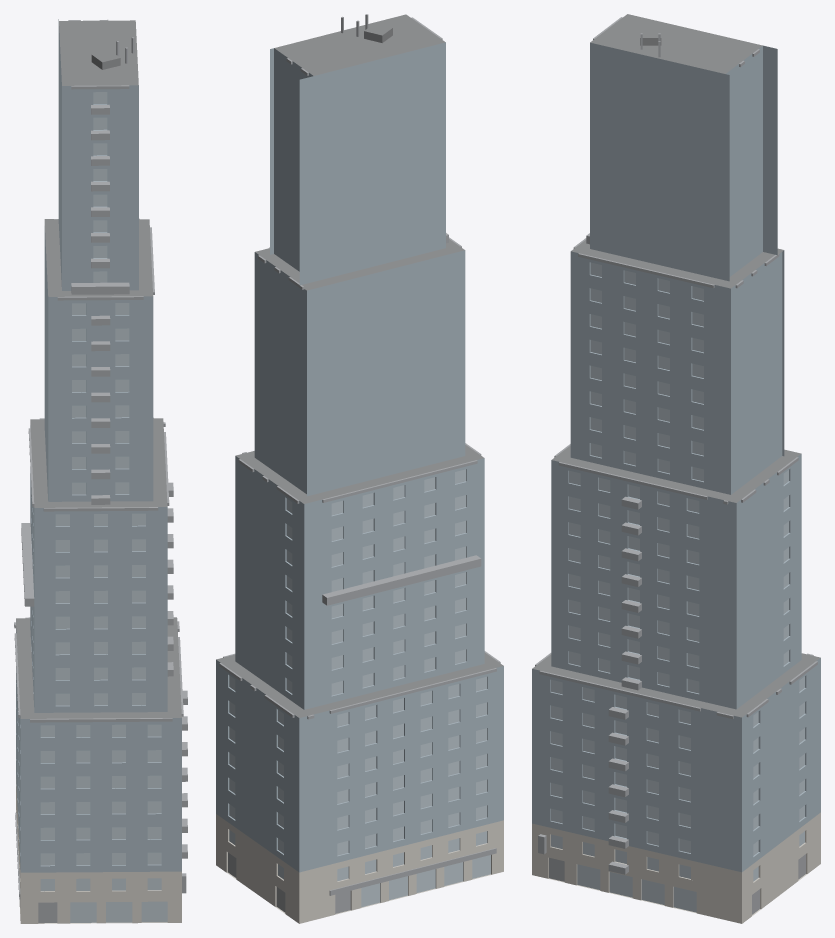
Rendered from doitt-982383__lod_0.glb.
3 renders of one model, left to right at view 1: azimuth 30°, elevation 25°; view 2: azimuth 150°, elevation 25°; view 3: azimuth 270°, elevation 25°, orthographic.
Size of the model in its own units: 32.73 by 118 by 36.68.
